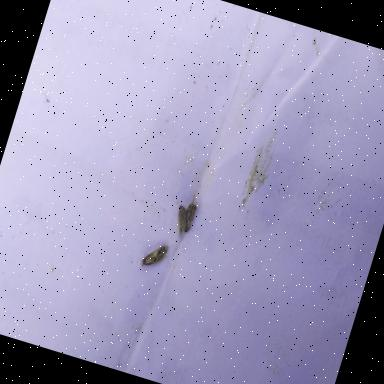pbw: (170, 203, 199, 240), (138, 239, 170, 272), (180, 193, 200, 233)
